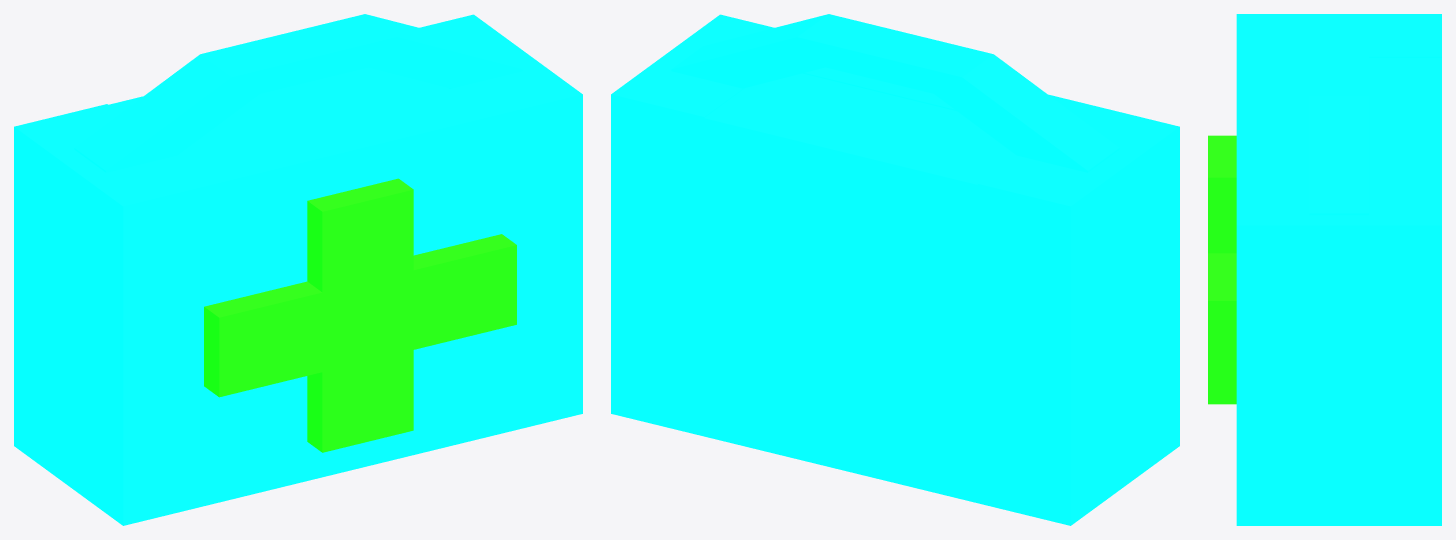
The model's file is medpack.fbx.
3 views of the same model, side by side, from view 1: azimuth 30°, elevation 25°; view 2: azimuth 150°, elevation 25°; view 3: azimuth 270°, elevation 25° (orthographic). The views are drawn at different scales.
Parts seen in each view (by area): view 1: Box001; view 2: Box001; view 3: Box001.
Part boxes in pixels (<box>): Box001: <box>14,14,582,525</box>; Box001: <box>611,14,1179,525</box>; Box001: <box>1208,14,1441,525</box>.
Bounding box in the file's own units: 58.96 × 47.11 × 27.59.
